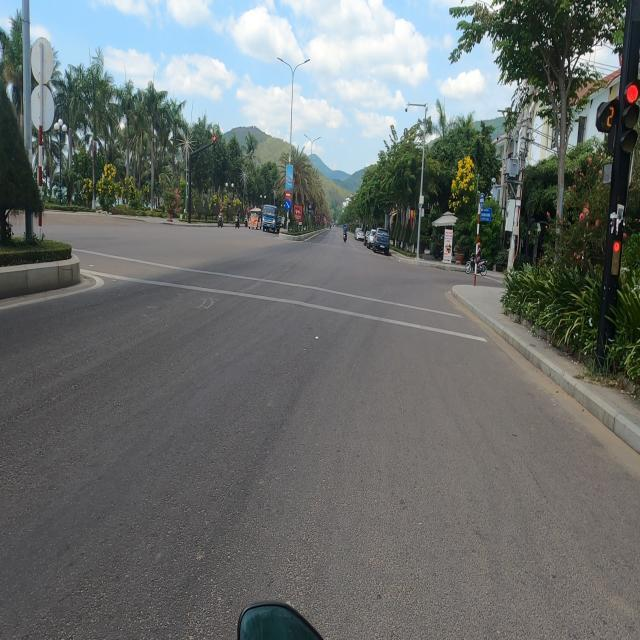walk-crossing: (73, 242, 489, 347)
